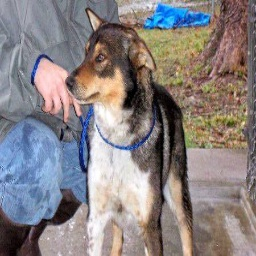dog: (62, 17, 196, 256)
